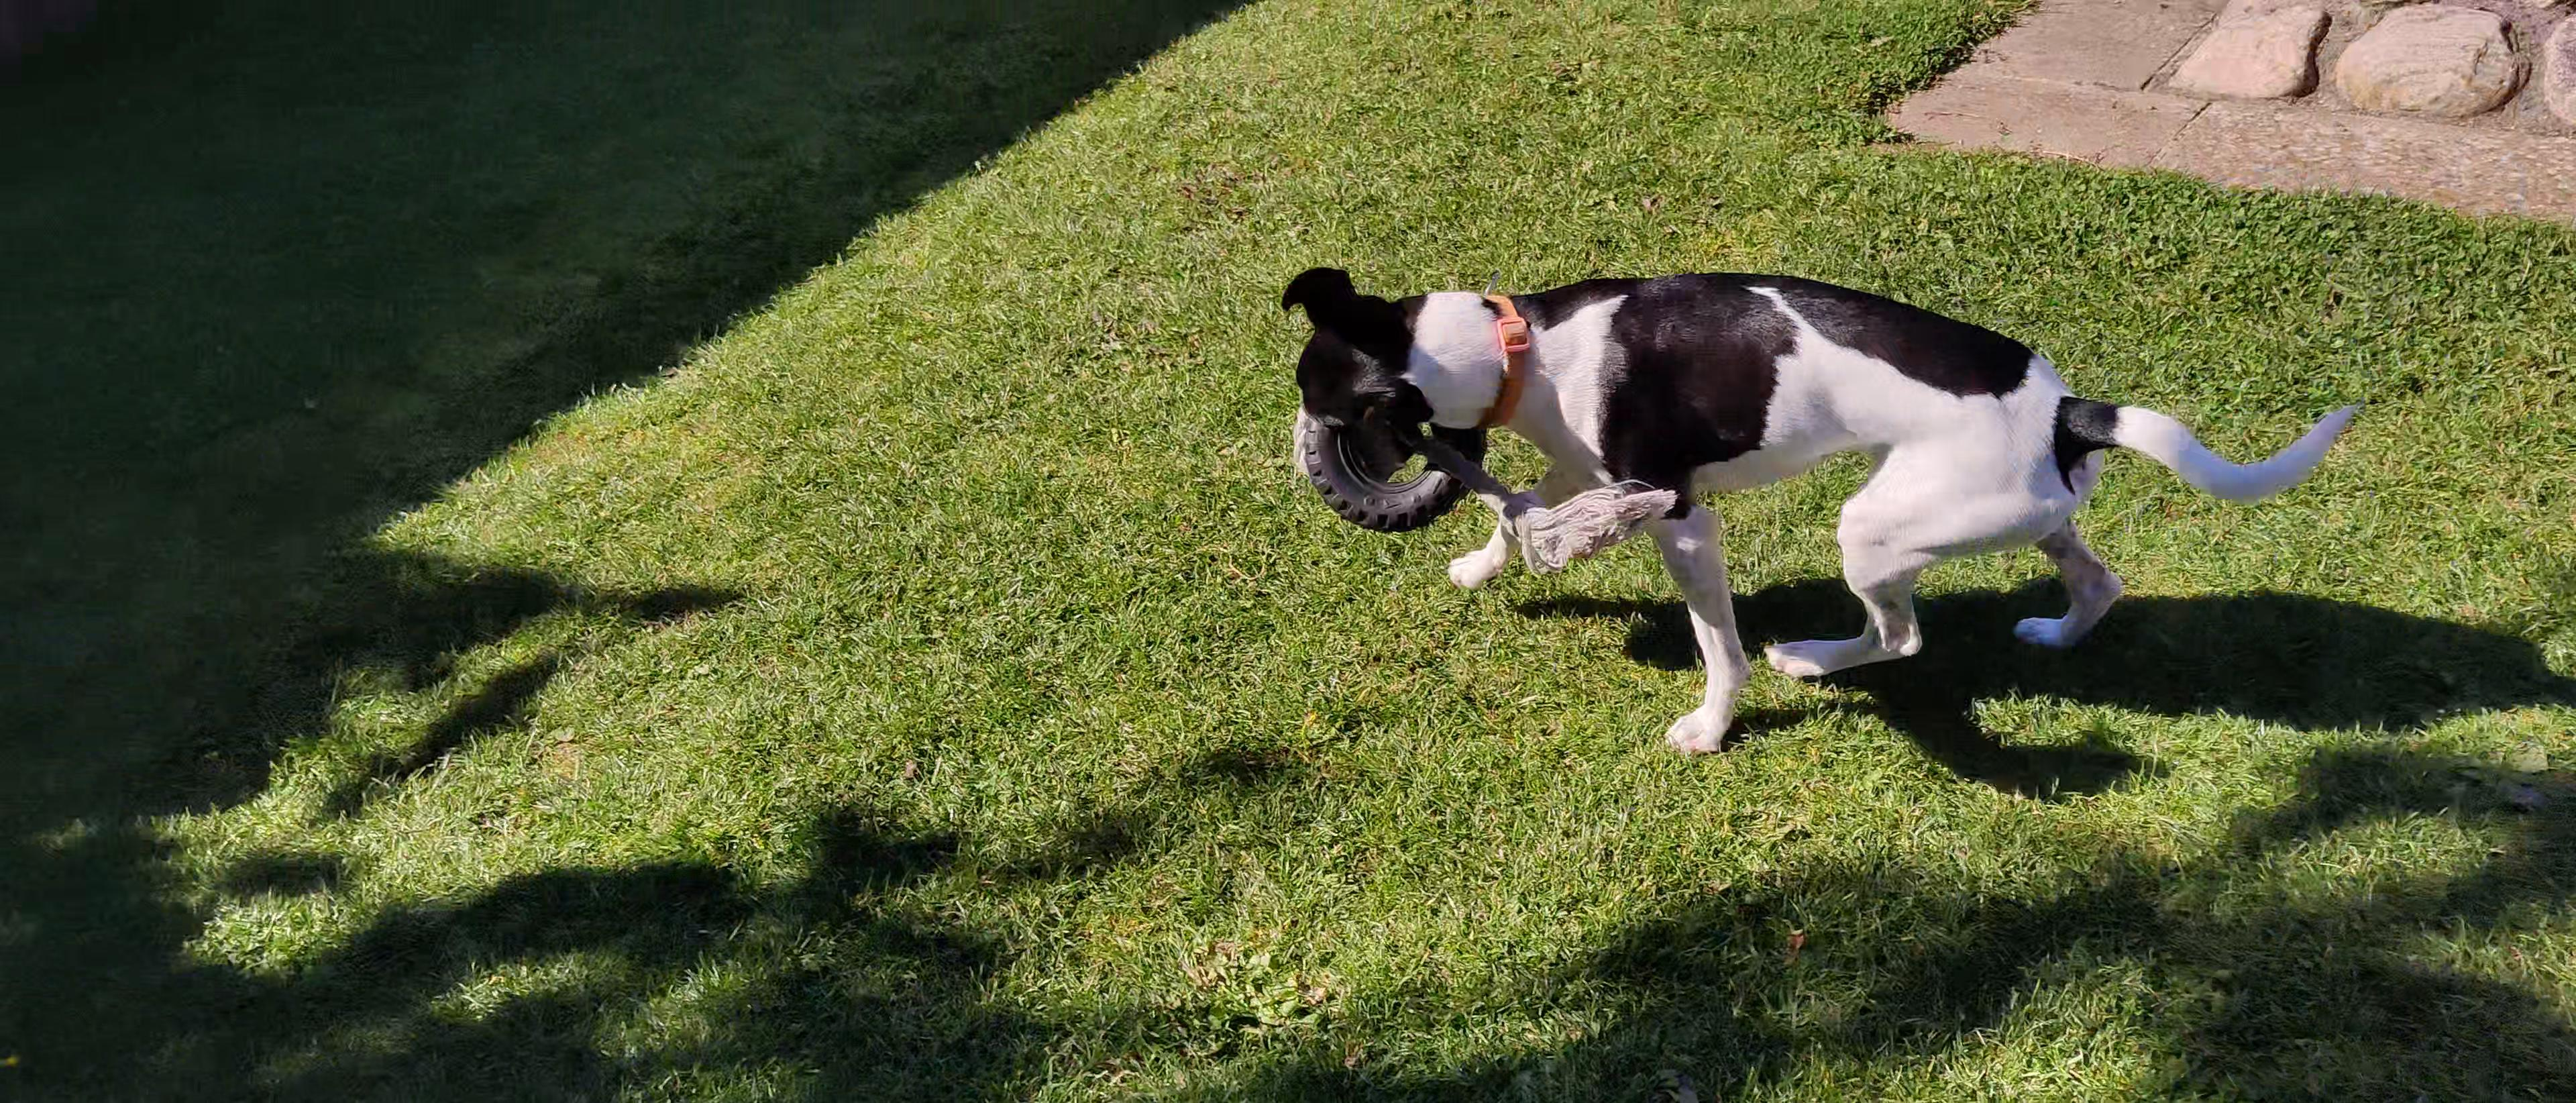Dog: (1258, 176, 2405, 792)
